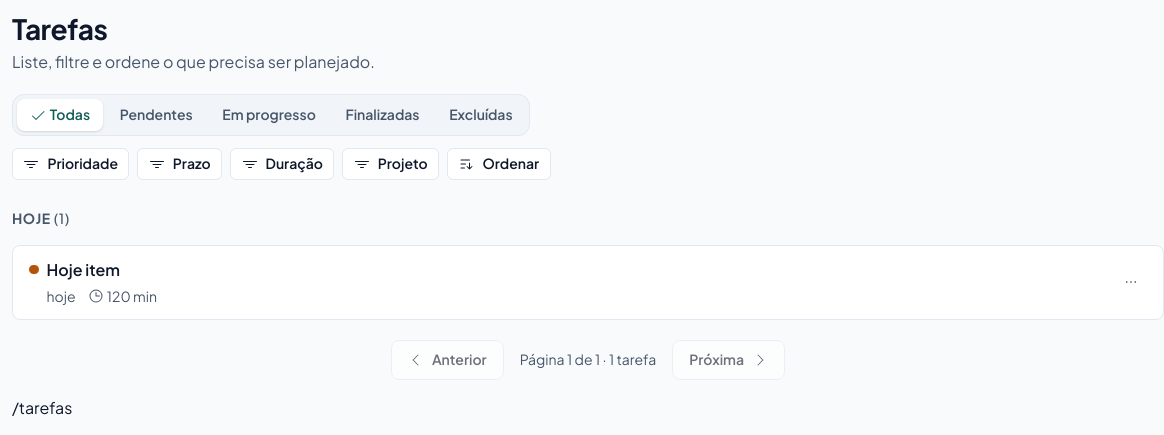
it: TarefasPage › filtros › T9: duas mudanças rápidas de filtro aplicam só a resposta da última
Expected: the text "Hoje item" is shown, [47,258,120,282]
Step 1. Click the button "Pendentes" → [156, 115], box [107,99,205,131]
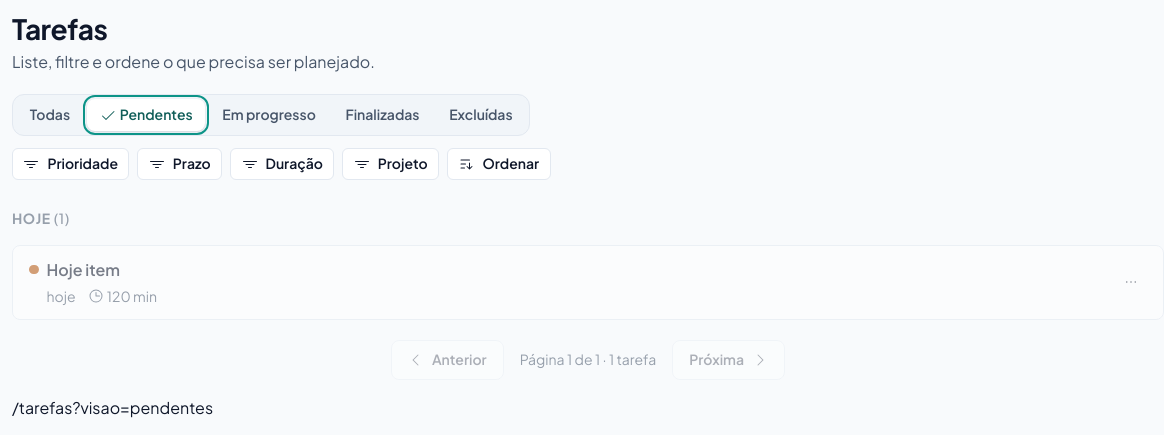
Step 2. Click the button "Em progresso" → [269, 115], box [209,99,329,131]
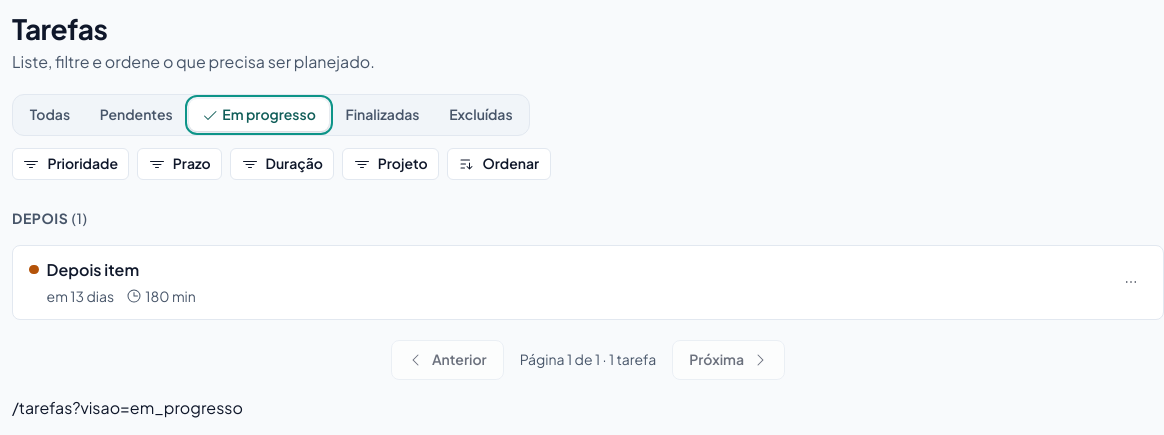
Expected: the text "Depois item" is shown, [47,258,139,282]
